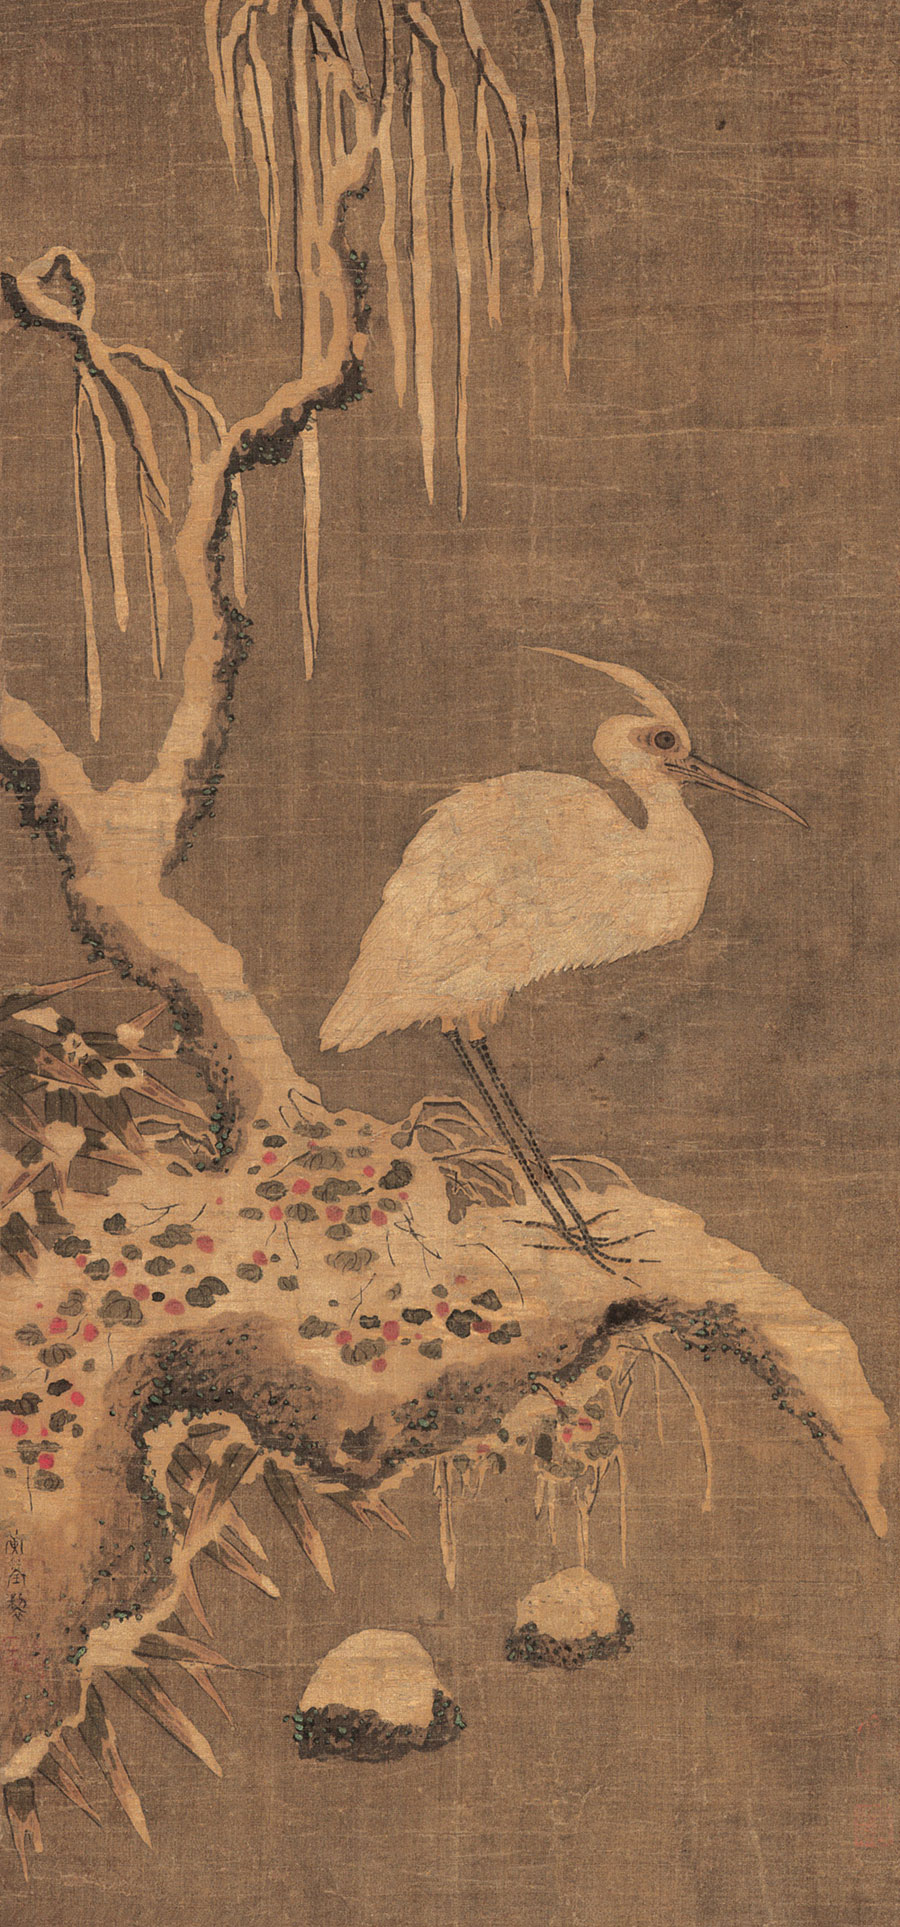crane: (333, 642, 787, 1289)
flower: (1, 1225, 537, 1365)
tree: (2, 9, 900, 1569)
